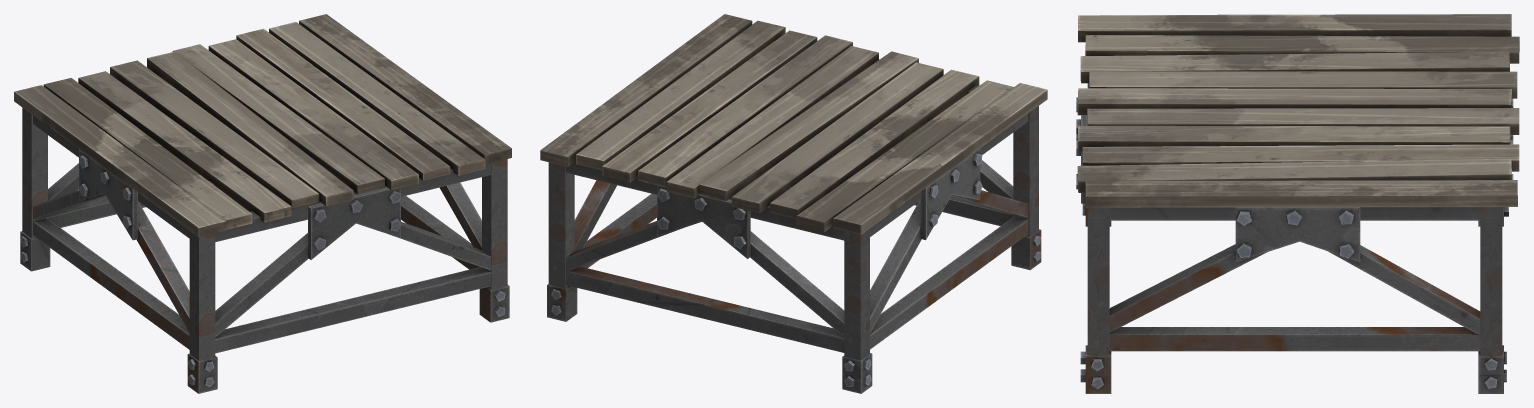
File: WoodPlatform2x2_Thin.glb
3 views of the same model, side by side, from view 1: azimuth 30°, elevation 25°; view 2: azimuth 150°, elevation 25°; view 3: azimuth 270°, elevation 25° (orthographic). The views are drawn at different scales.
Visible parts, largest first — view 1: WoodPlatform2x2_Thin, 2x2scaffold, ScaleSupportBeam_Metal (2) (×3); view 2: WoodPlatform2x2_Thin, 2x2scaffold, ScaleSupportBeam_Metal (2) (×3); view 3: WoodPlatform2x2_Thin, 2x2scaffold, ScaleSupportBeam_Metal (2) (×2).
Boxes of the visible parts, bbox=[...] form: WoodPlatform2x2_Thin: bbox=[14, 14, 511, 241]; 2x2scaffold: bbox=[20, 149, 509, 393]; ScaleSupportBeam_Metal (2) (×3): bbox=[22, 107, 507, 360]; WoodPlatform2x2_Thin: bbox=[540, 14, 1047, 240]; 2x2scaffold: bbox=[547, 59, 1041, 393]; ScaleSupportBeam_Metal (2) (×3): bbox=[548, 106, 1038, 360]; WoodPlatform2x2_Thin: bbox=[1077, 14, 1519, 220]; 2x2scaffold: bbox=[1076, 97, 1513, 393]; ScaleSupportBeam_Metal (2) (×2): bbox=[1087, 207, 1502, 355].
Bounding box in the file's own units: 2.01 × 1.02 × 2.04.
3 materials, 3 textured.
